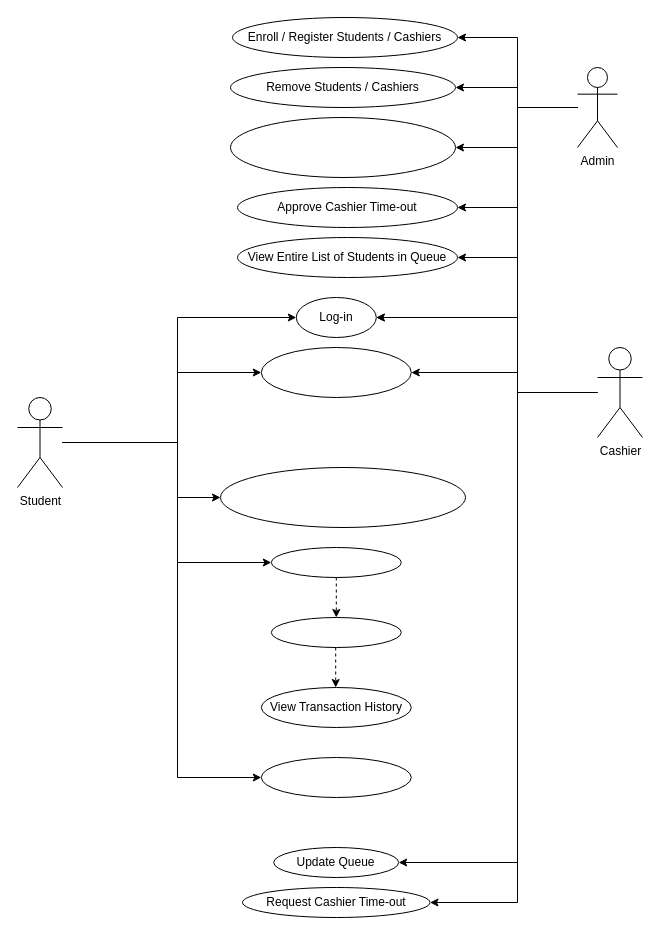
Some shapes in this 660 by 935 pixel diagram are drawn without their labels. Each missing label, with the box of its shape:
Complete Payment: (270, 546, 401, 578)
Enable / Disable Online Requests for Priority Number: (230, 116, 456, 178)
Receive e-receipt: (270, 616, 401, 648)
Request Priority Number (with limited maximum req. per day): (220, 466, 466, 528)
View Latest Priority Number: (260, 346, 411, 398)
View Penalties: (260, 756, 411, 798)
